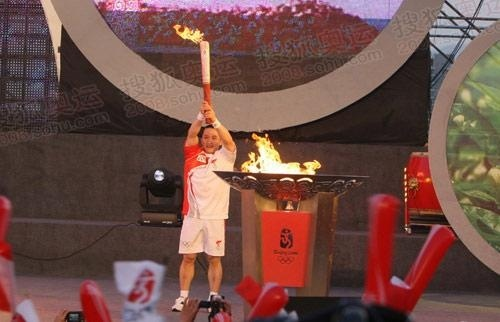fire: (240, 132, 320, 177), (173, 22, 205, 43)
